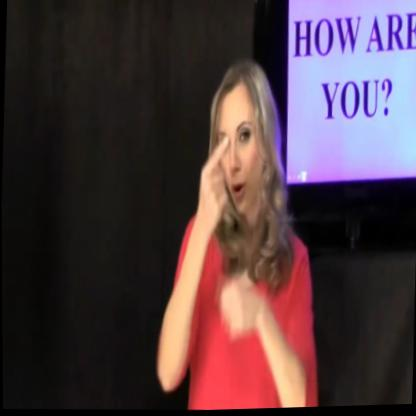HowAreYou: (178, 120, 277, 342)
